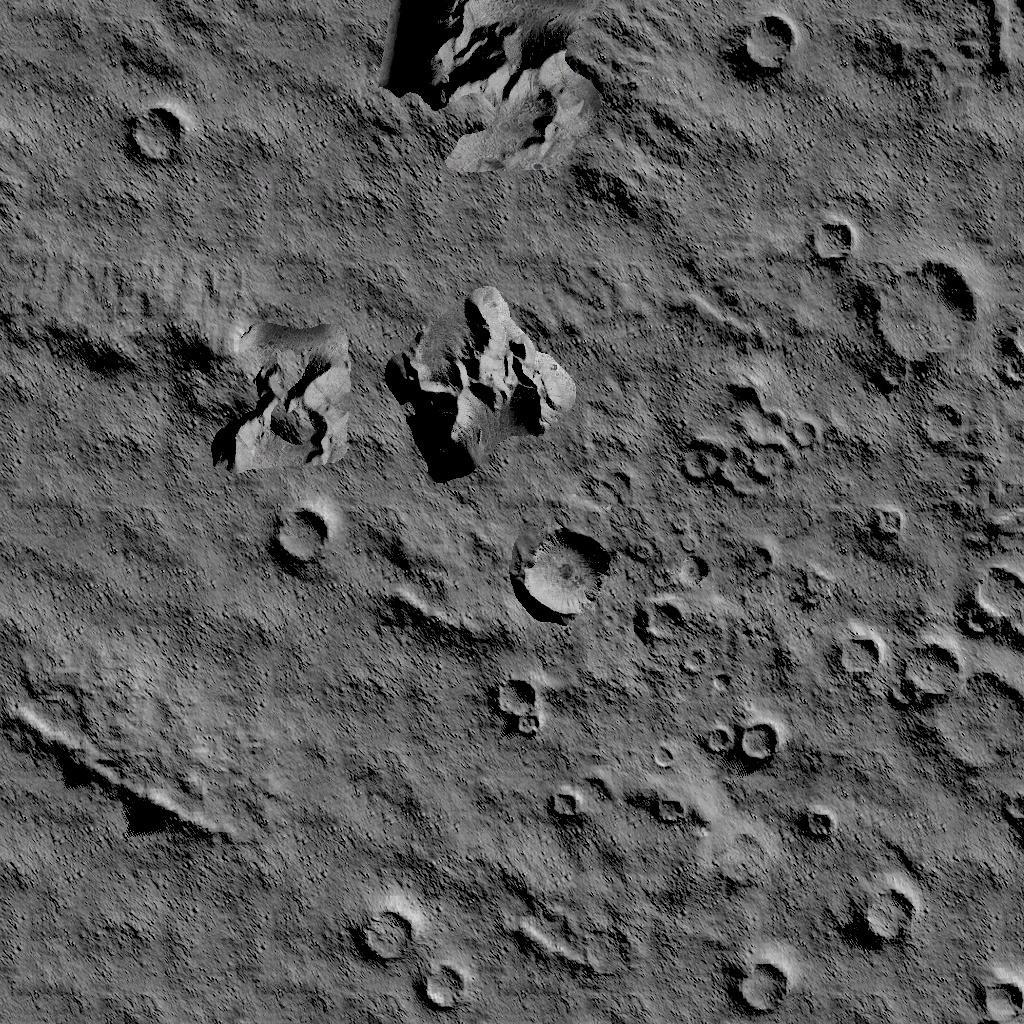Boulders: (0, 266, 353, 476), (378, 0, 652, 218), (382, 286, 580, 486), (13, 702, 235, 852), (364, 516, 496, 660), (0, 120, 19, 245)
Crater: (825, 560, 1024, 773), (864, 256, 1024, 456), (669, 360, 817, 510), (346, 896, 468, 1015), (510, 510, 622, 630), (634, 540, 706, 654), (724, 0, 811, 88), (112, 96, 203, 179), (838, 874, 924, 958), (260, 496, 344, 580), (695, 710, 785, 774), (719, 948, 793, 1024), (945, 954, 1020, 1024), (488, 671, 546, 740), (798, 210, 856, 269), (642, 778, 694, 838), (538, 776, 590, 834), (790, 800, 842, 850), (989, 787, 1024, 855), (856, 496, 904, 544)
Plan surface: (6, 870, 332, 1024), (5, 494, 251, 679), (255, 680, 473, 858), (743, 102, 1024, 190), (241, 46, 353, 237)
